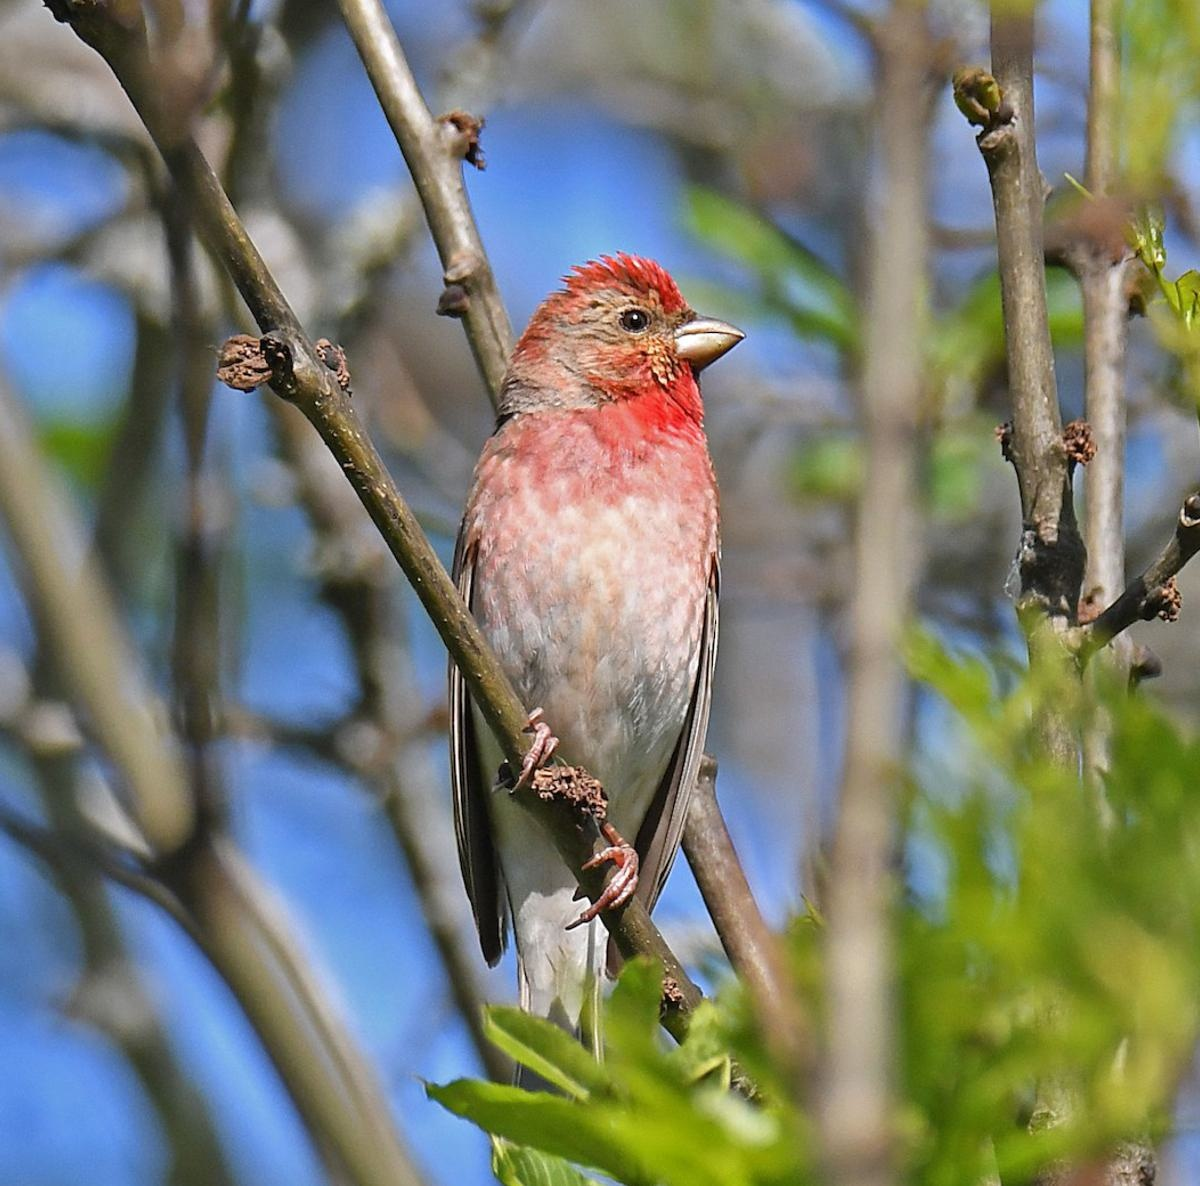rosefinch: (424, 251, 756, 973)
